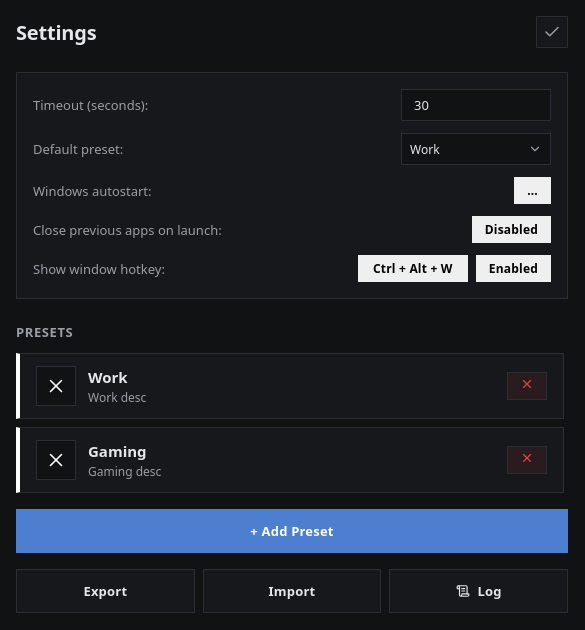
Test: SettingsView › cancels a pending delete confirmation
The image size is (585, 630).
Click the button named "Delete preset" in the row of "Work desc" at (527,386), box [507,372,547,400]
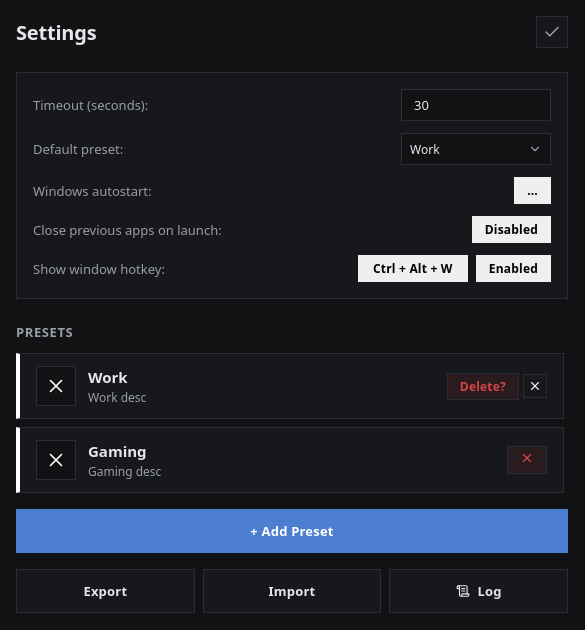
Click the button named "Cancel delete" at (535,386), box [523,374,547,398]
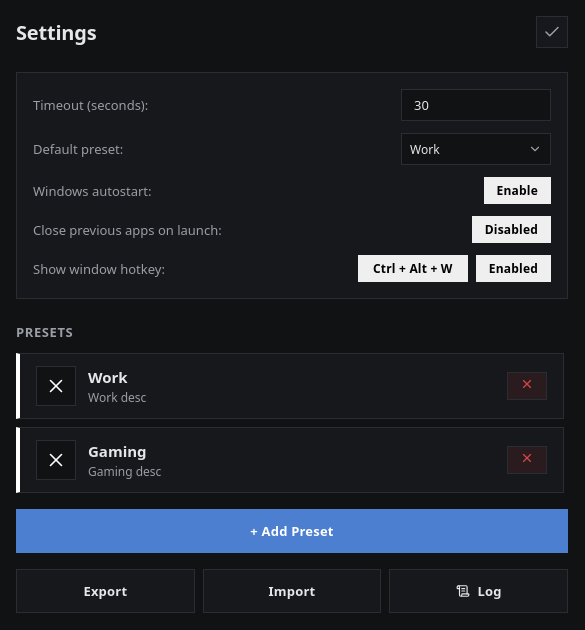
Expected: the button "Delete?" is gone
